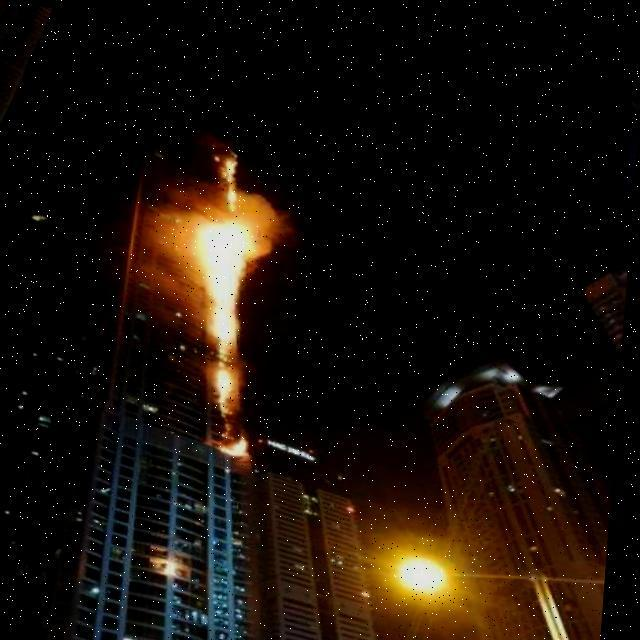Fire: (186, 137, 288, 451)
